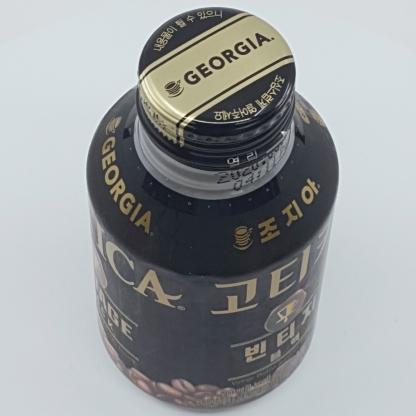---------------270ML: (86, 7, 339, 409)
